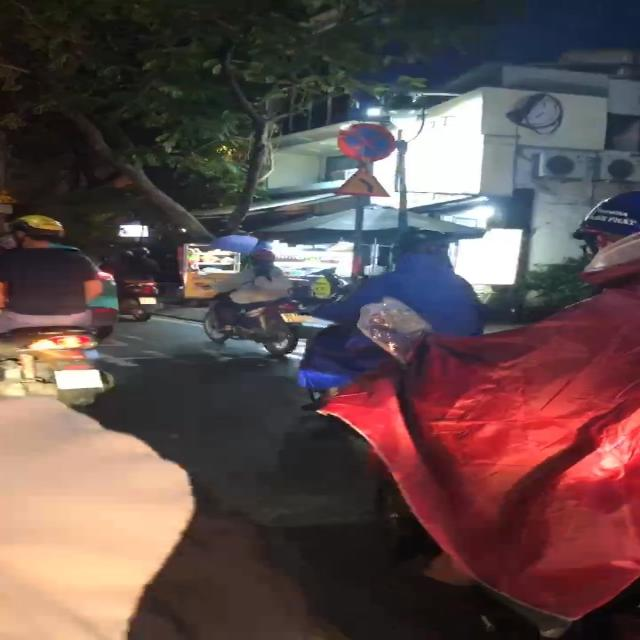Bien bao cho ngoat nguy hiem: (329, 162, 386, 197)
